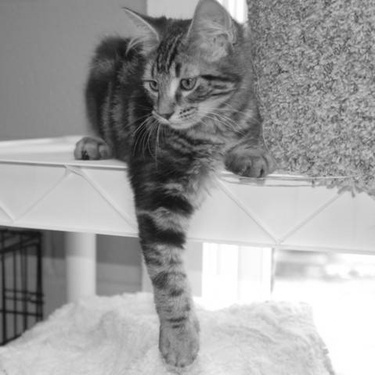cat: (74, 2, 269, 370)
